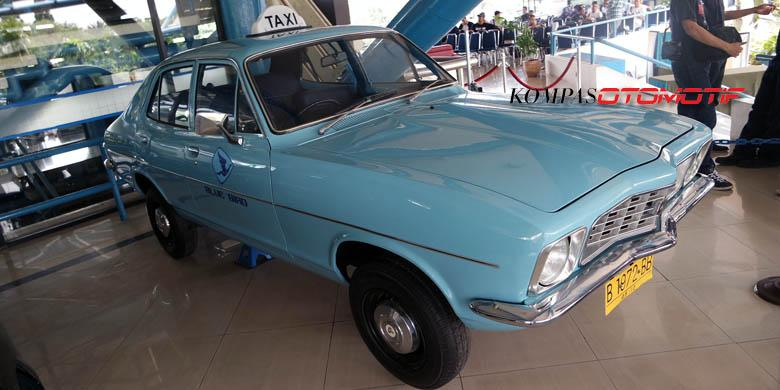plate: (602, 251, 654, 315)
